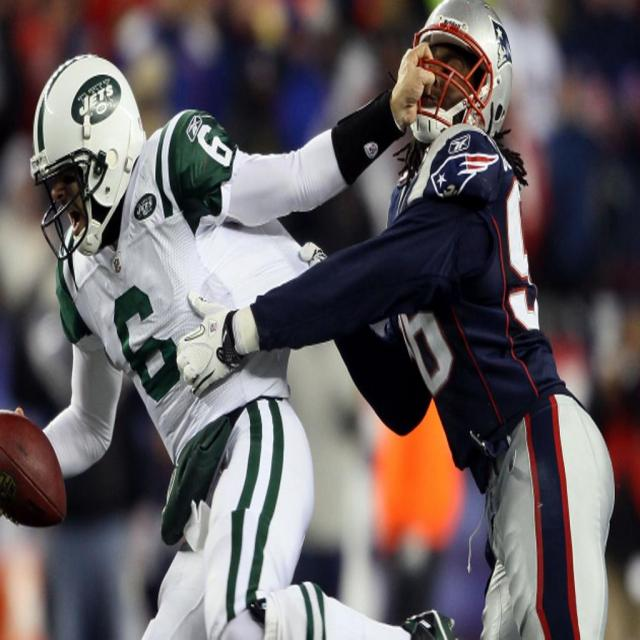nomask: (412, 21, 473, 133), (46, 154, 104, 253)
